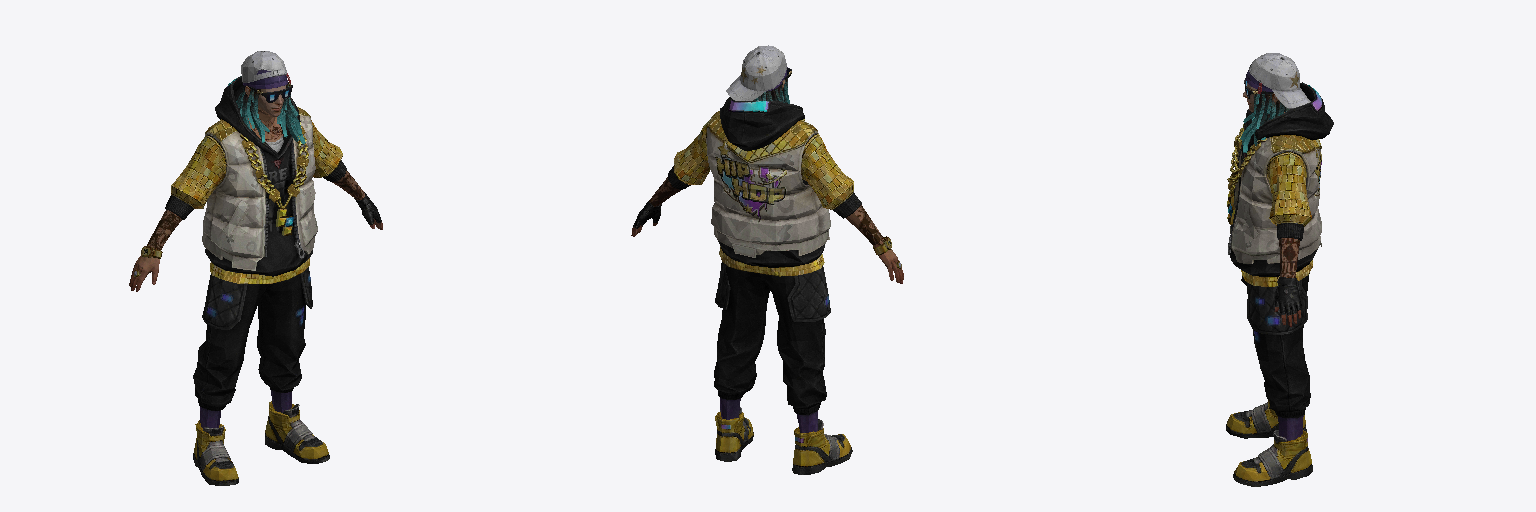
3 renders of one model, left to right at view 1: azimuth 30°, elevation 25°; view 2: azimuth 150°, elevation 25°; view 3: azimuth 270°, elevation 25°, orthographic.
Parts seen in each view (by area): view 1: Male_Lobby_Top_Cos_Fashiontrends_0, Male_Lobby_Bottom_Cos_Fashiontrends_0, Male_Lobby_Shoe_Cos_Fashiontrends_0, Male_Lobby_Hair_Cos_Fashiontrends_0, Male_Lobby_Top_Cos_Fashiontrends_1; view 2: Male_Lobby_Top_Cos_Fashiontrends_0, Male_Lobby_Bottom_Cos_Fashiontrends_0, Male_Lobby_Shoe_Cos_Fashiontrends_0, Male_Lobby_Hair_Cos_Fashiontrends_0, Male_Lobby_Top_Cos_Fashiontrends_1; view 3: Male_Lobby_Top_Cos_Fashiontrends_0, Male_Lobby_Bottom_Cos_Fashiontrends_0, Male_Lobby_Shoe_Cos_Fashiontrends_0, Male_Lobby_Hair_Cos_Fashiontrends_0, Male_Lobby_Top_Cos_Fashiontrends_1.
Part boxes in pixels (left/top/right/bottom): Male_Lobby_Top_Cos_Fashiontrends_0: left=134, top=76, right=381, bottom=283; Male_Lobby_Bottom_Cos_Fashiontrends_0: left=193, top=267, right=312, bottom=428; Male_Lobby_Shoe_Cos_Fashiontrends_0: left=193, top=401, right=329, bottom=485; Male_Lobby_Hair_Cos_Fashiontrends_0: left=236, top=51, right=305, bottom=144; Male_Lobby_Top_Cos_Fashiontrends_1: left=129, top=109, right=382, bottom=291; Male_Lobby_Top_Cos_Fashiontrends_0: left=633, top=97, right=901, bottom=276; Male_Lobby_Bottom_Cos_Fashiontrends_0: left=714, top=262, right=830, bottom=432; Male_Lobby_Shoe_Cos_Fashiontrends_0: left=715, top=407, right=852, bottom=474; Male_Lobby_Hair_Cos_Fashiontrends_0: left=726, top=45, right=789, bottom=103; Male_Lobby_Top_Cos_Fashiontrends_1: left=631, top=177, right=903, bottom=283; Male_Lobby_Top_Cos_Fashiontrends_0: left=1227, top=82, right=1333, bottom=315; Male_Lobby_Bottom_Cos_Fashiontrends_0: left=1241, top=273, right=1310, bottom=440; Male_Lobby_Shoe_Cos_Fashiontrends_0: left=1226, top=400, right=1312, bottom=486; Male_Lobby_Hair_Cos_Fashiontrends_0: left=1240, top=53, right=1310, bottom=153; Male_Lobby_Top_Cos_Fashiontrends_1: left=1274, top=112, right=1300, bottom=326.
Bounding box in the file's own units: 3.06 × 4.6 × 1.11.
Materials: 8 (7 with a texture image).